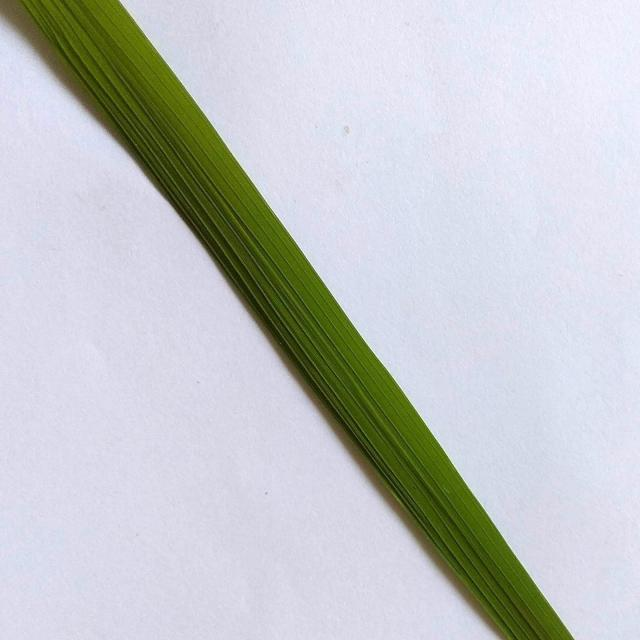healthy: (4, 0, 576, 640)
